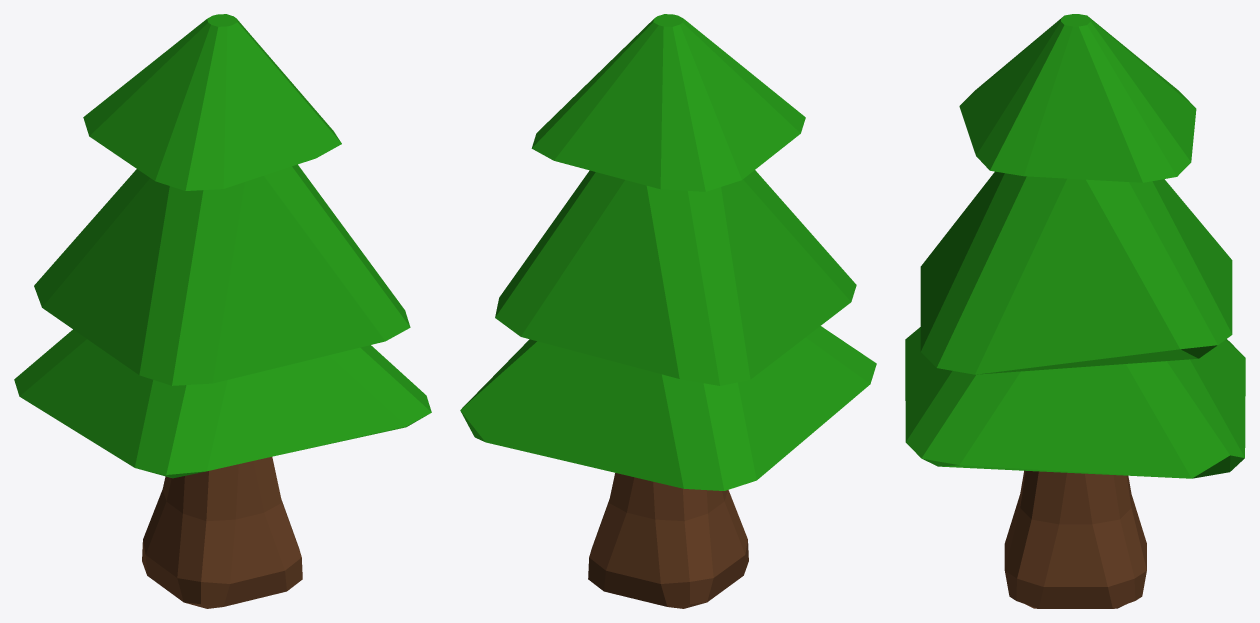
File: Saplin01.glb
3 views of the same model, side by side, from view 1: azimuth 30°, elevation 25°; view 2: azimuth 150°, elevation 25°; view 3: azimuth 270°, elevation 25° (orthographic).
Parts seen in each view (by area): view 1: Saplin_01; view 2: Saplin_01; view 3: Saplin_01.
Part boxes in pixels (x1,y1,x2,y2): Saplin_01: (14,14,431,608); Saplin_01: (460,14,876,608); Saplin_01: (905,14,1245,608).
Size of the model in its own units: 1.09 by 2.01 by 1.09.
